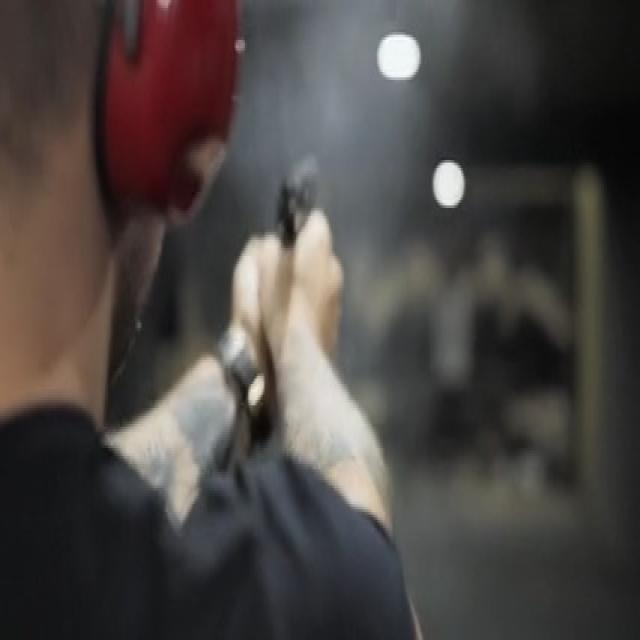Gun_Holder: (252, 141, 366, 329)
Person: (0, 0, 416, 640)
